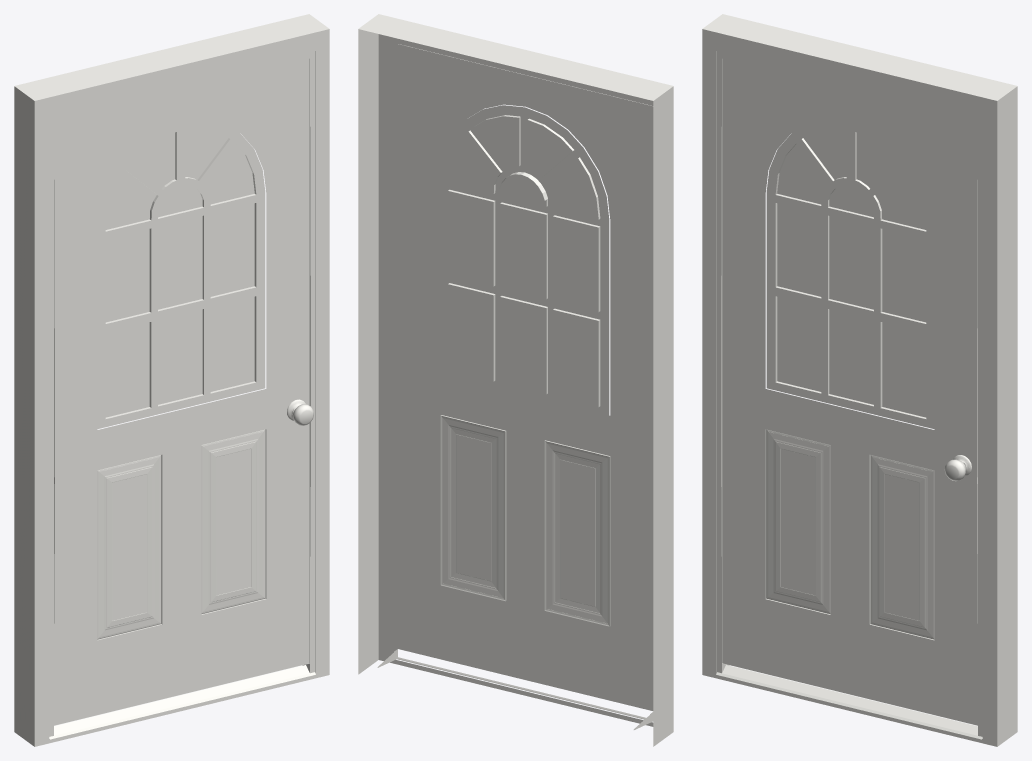
Rendered from Fiberglass_Prehung_36_Glass.obj.
3 views of the same model, side by side, from view 1: azimuth 30°, elevation 25°; view 2: azimuth 150°, elevation 25°; view 3: azimuth 330°, elevation 25° (orthographic).
Visible parts, largest first — view 1: Door.000_Door.007, Trim_Door.006, Windows.003, Window_Frame.003, Metal_Step_Metal.003, Metal.001_handle_metal.003; view 2: Door.000_Door.007, Trim_Door.006, Windows.003, Window_Frame.003, Metal_Step_Metal.003; view 3: Door.000_Door.007, Trim_Door.006, Windows.003, Window_Frame.003, Metal_Step_Metal.003, Metal.001_handle_metal.003.
Part boxes in pixels (x1=…): Door.000_Door.007: x1=54, y1=58, x2=310, y2=725; Trim_Door.006: x1=14, y1=14, x2=329, y2=746; Windows.003: x1=105, y1=128, x2=254, y2=417; Window_Frame.003: x1=97, y1=119, x2=265, y2=429; Metal_Step_Metal.003: x1=49, y1=665, x2=315, y2=739; Metal.001_handle_metal.003: x1=287, y1=399, x2=313, y2=425; Door.000_Door.007: x1=394, y1=44, x2=653, y2=716; Trim_Door.006: x1=358, y1=14, x2=673, y2=746; Windows.003: x1=448, y1=116, x2=598, y2=406; Window_Frame.003: x1=440, y1=105, x2=609, y2=415; Metal_Step_Metal.003: x1=394, y1=656, x2=645, y2=719; Door.000_Door.007: x1=721, y1=58, x2=977, y2=725; Trim_Door.006: x1=702, y1=14, x2=1017, y2=746; Windows.003: x1=777, y1=128, x2=926, y2=417; Window_Frame.003: x1=766, y1=119, x2=934, y2=429; Metal_Step_Metal.003: x1=716, y1=665, x2=982, y2=739; Metal.001_handle_metal.003: x1=944, y1=455, x2=971, y2=481.
Size of the model in its own units: 1.05 by 2.2 by 0.1938.
